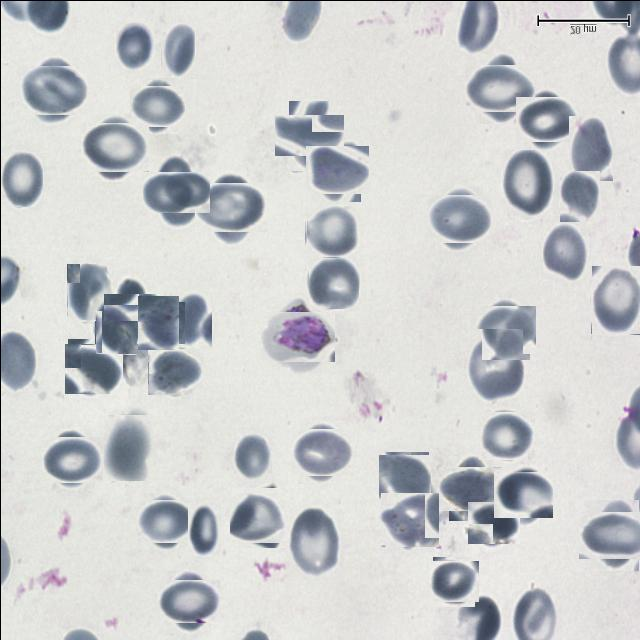red blood cell: (469, 328, 522, 401), (200, 176, 261, 238), (501, 148, 552, 218), (288, 506, 339, 576), (23, 60, 82, 120), (469, 59, 528, 118), (84, 118, 144, 176), (590, 265, 640, 334), (584, 505, 640, 565), (381, 490, 438, 548), (104, 414, 154, 480), (430, 190, 486, 246), (280, 106, 336, 162), (308, 141, 364, 197), (148, 164, 204, 219), (293, 424, 348, 479), (65, 340, 120, 395), (442, 460, 498, 514), (518, 91, 572, 146), (478, 301, 532, 356), (232, 490, 287, 544), (44, 432, 98, 486), (305, 204, 359, 258), (568, 115, 612, 180), (162, 574, 214, 628), (480, 408, 532, 461), (496, 468, 548, 520), (148, 345, 200, 396), (378, 452, 429, 503), (542, 222, 586, 280), (308, 257, 358, 308), (138, 496, 188, 546), (132, 81, 181, 129), (66, 262, 106, 320), (133, 298, 181, 346), (94, 300, 136, 354), (0, 152, 42, 206), (469, 498, 516, 546), (430, 558, 476, 604), (172, 292, 211, 346), (559, 170, 599, 221), (160, 22, 194, 78), (115, 18, 153, 68), (233, 432, 271, 482), (110, 285, 154, 328), (187, 500, 220, 554)
trophozoite: (266, 304, 328, 368)
